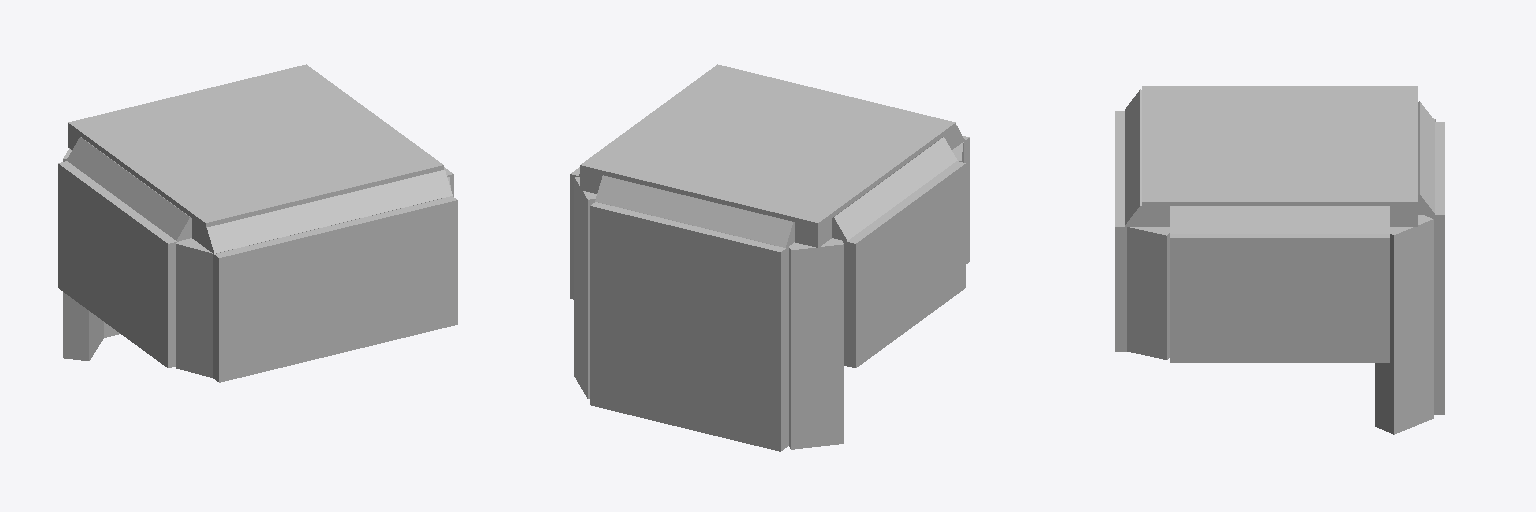
Rendered from swat_helmet.obj.
3 renders of one model, left to right at view 1: azimuth 30°, elevation 25°; view 2: azimuth 150°, elevation 25°; view 3: azimuth 270°, elevation 25°, orthographic.
Visible parts, largest first — view 1: cube; view 2: cube; view 3: cube.
Part boxes in pixels (bbox=[...]): cube: bbox=[58, 64, 457, 382]; cube: bbox=[570, 64, 969, 451]; cube: bbox=[1115, 86, 1444, 434].
Bounding box in the file's own units: 0.75 × 0.5625 × 0.75.